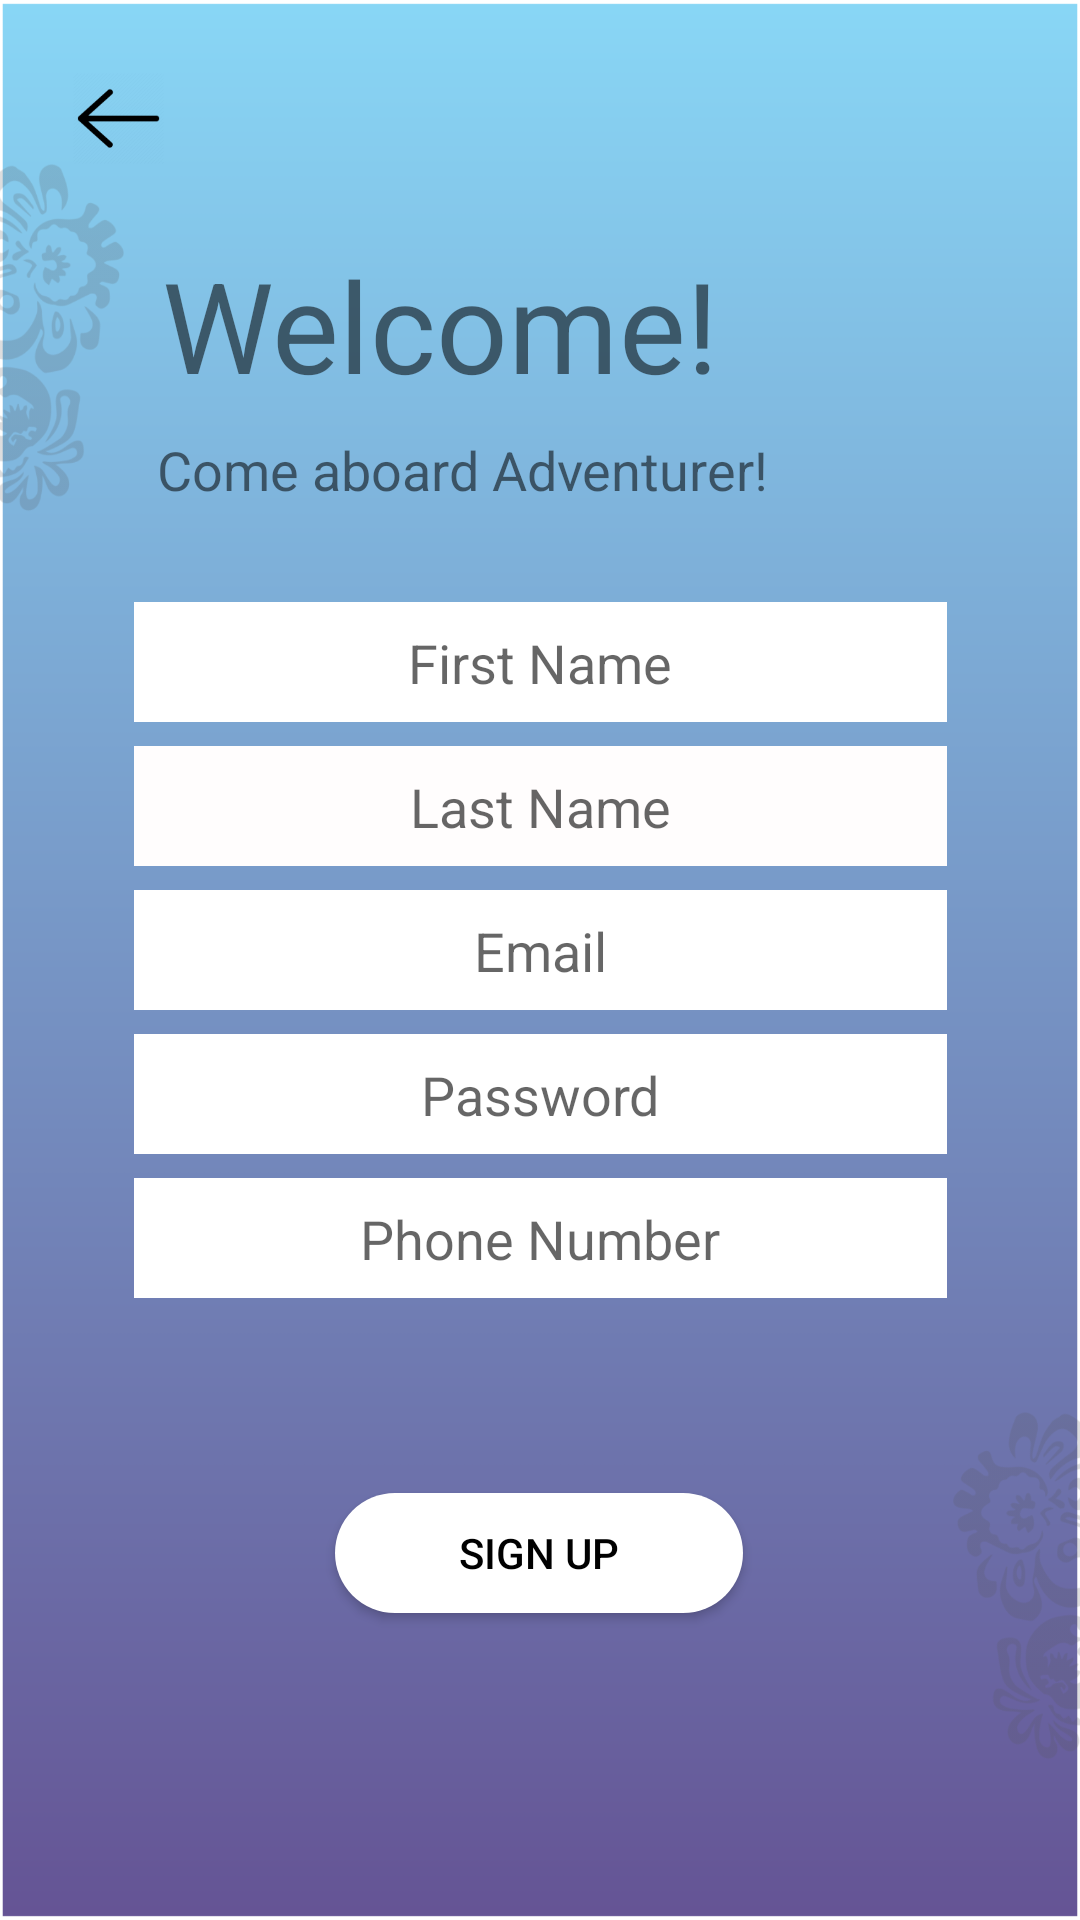

Named icons in this screenshot (1080x1920) and their bounding boxes, (x1, y1, x2, y2):
back arrow: (78, 89, 160, 148)
